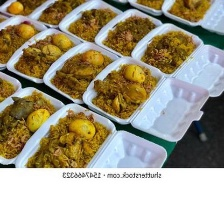foam_box: (79, 54, 212, 144), (11, 100, 171, 168), (128, 20, 224, 98), (0, 65, 66, 168), (40, 38, 122, 105), (5, 23, 84, 87), (90, 6, 164, 57), (56, 0, 124, 44), (0, 11, 51, 66), (160, 0, 224, 34), (0, 0, 53, 21), (112, 0, 173, 14)
